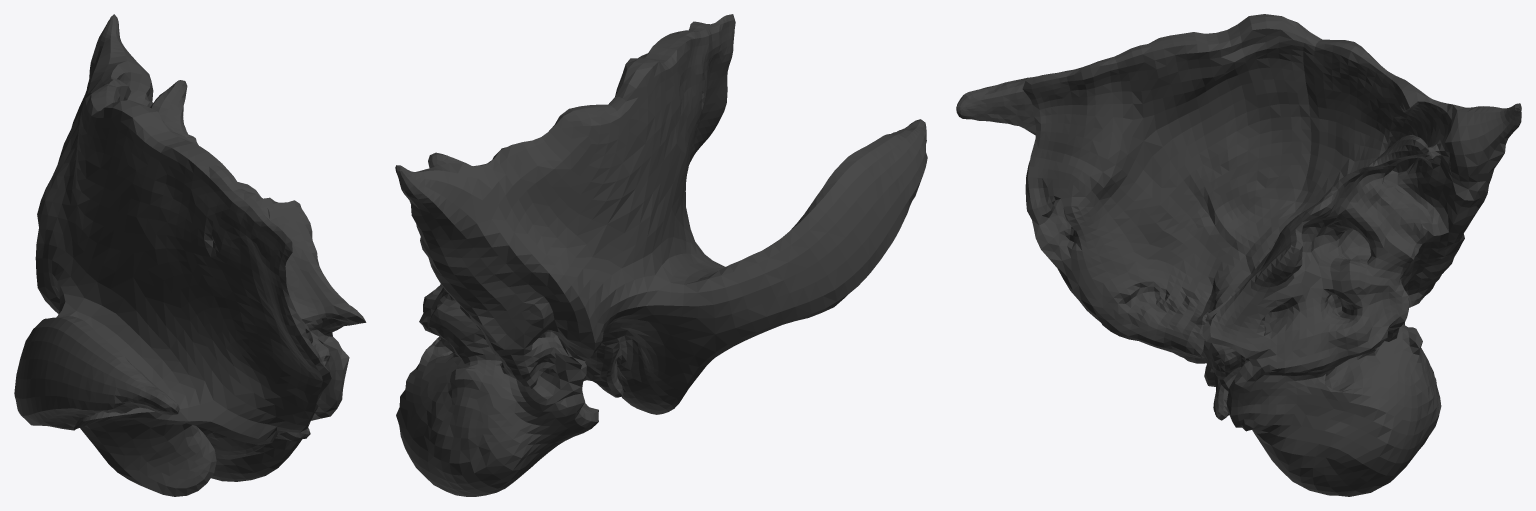
File: Temporal_R.glb
3 renders of one model, left to right at view 1: azimuth 30°, elevation 25°; view 2: azimuth 150°, elevation 25°; view 3: azimuth 270°, elevation 25°, orthographic. The views are drawn at different scales.
Visible parts, largest first — view 1: Temporal_R; view 2: Temporal_R; view 3: Temporal_R.
Boxes of the visible parts, x1,y1,x2,y2 form: Temporal_R: (14, 14, 366, 496); Temporal_R: (395, 14, 927, 496); Temporal_R: (956, 14, 1521, 496).
Bounding box in the file's own units: 261 × 288 × 359.
1 material, 1 textured.
